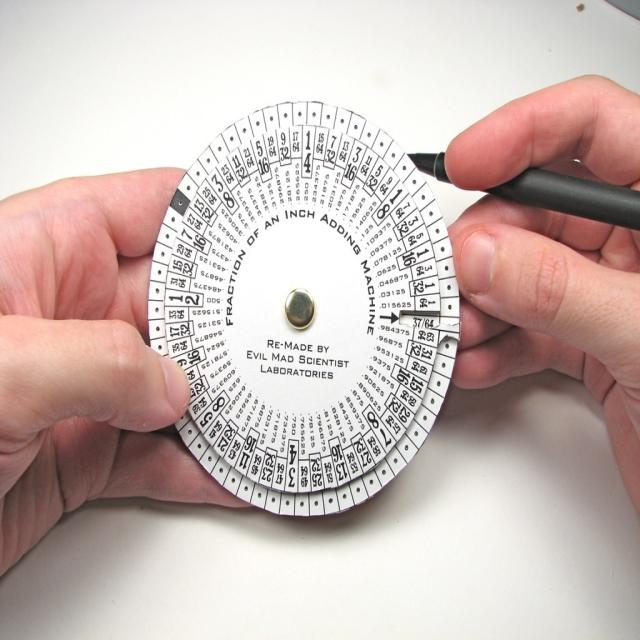pen: (404, 150, 639, 228)
